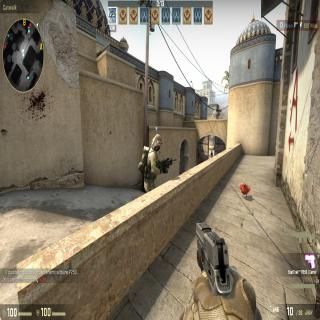CT-Body: (142, 131, 162, 192)
CT-Head: (150, 132, 163, 152)
